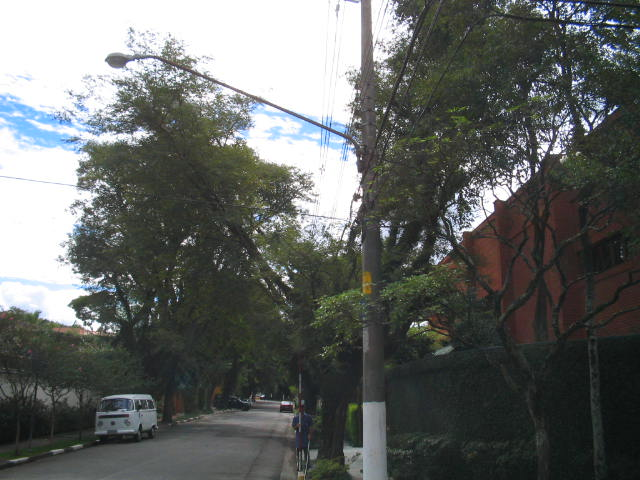stem: (312, 396, 359, 474)
stick: (293, 351, 307, 471)
tree: (53, 24, 458, 474)
